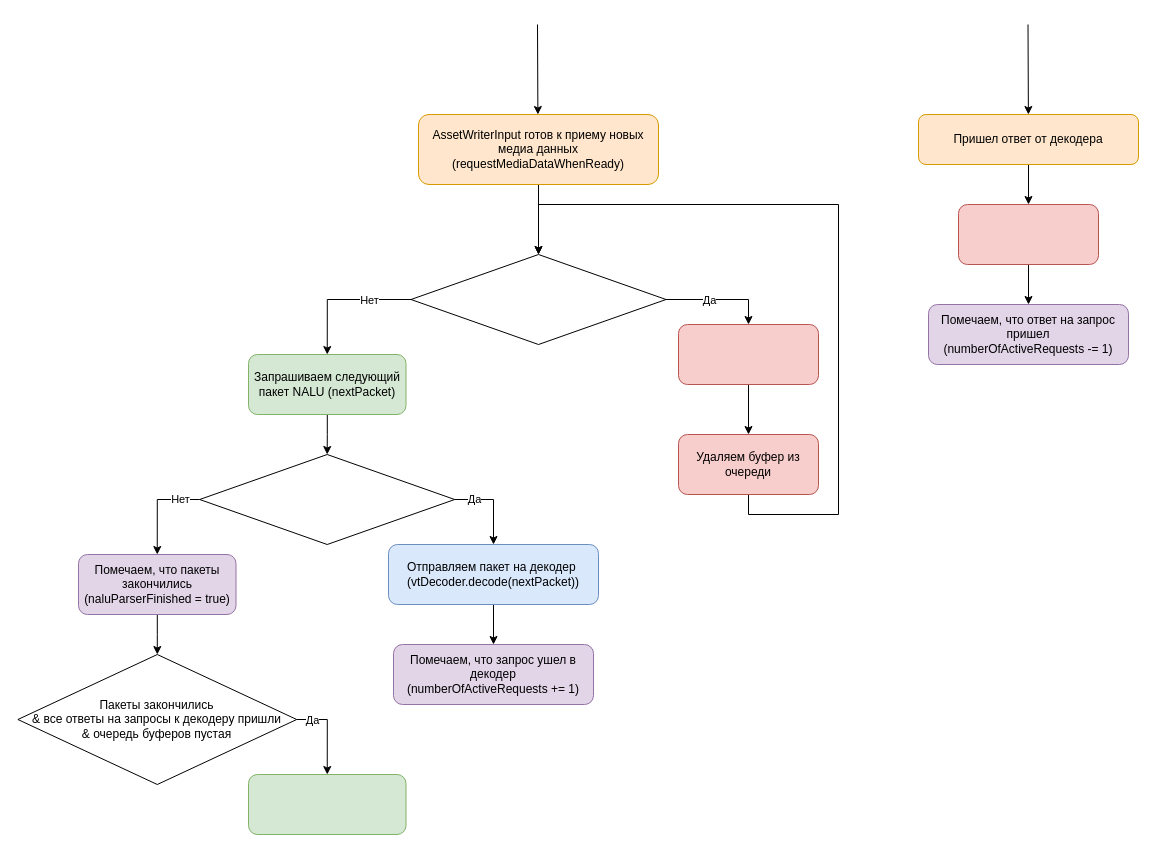
The diagram is 1156 pixels wide and 852 high, and some of its shapes have lost their labels. Here are the shapes that lost their labels. From the top down, the box of each, then its label:
(958, 204, 1098, 264): Добавляем буфер в очередь
(410, 254, 666, 344): Есть буфер в очереди (cvPixelBuffersQueue.first != nil)
(678, 324, 818, 384): Добавляем буфер в assetWriterInput
(199, 454, 455, 544): Следующий пакет существует (nextPacket != nil)
(248, 774, 406, 834): Успешно завершаем запись
